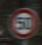Speed Limit -50-: (0, 0, 41, 44)
